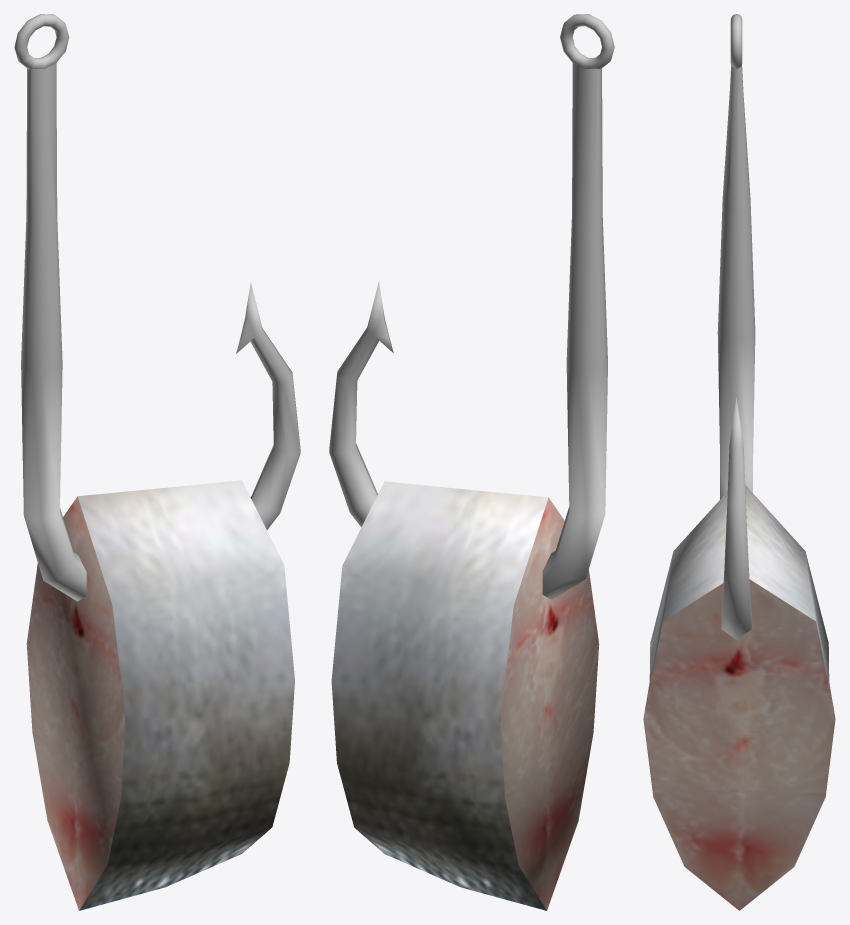
File: Bait_DottedGizzardShad.fbx
3 views of the same model, side by side, from view 1: azimuth 30°, elevation 25°; view 2: azimuth 150°, elevation 25°; view 3: azimuth 270°, elevation 25° (orthographic). The views are drawn at different scales.
Parts seen in each view (by area): view 1: Bait_DottedGizzardShad; view 2: Bait_DottedGizzardShad; view 3: Bait_DottedGizzardShad.
Boxes of the visible parts, x1,y1,x2,y2 form: Bait_DottedGizzardShad: (14,14,300,910); Bait_DottedGizzardShad: (329,14,614,910); Bait_DottedGizzardShad: (643,14,835,910).
Bounding box in the file's own units: 0.2116 × 0.643 × 0.1364.
